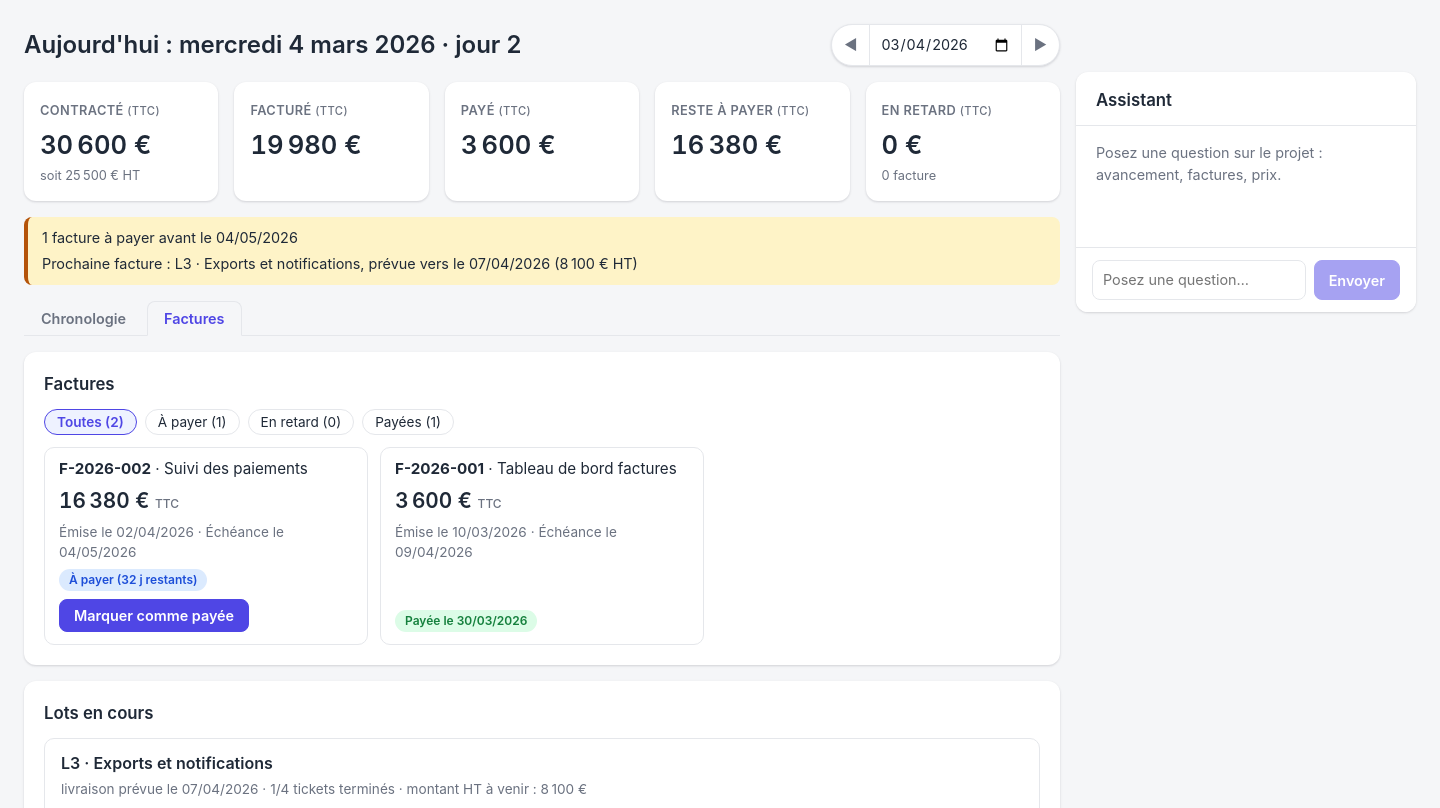
it: ClientPage › marking an invoice paid › shows the generic French message when the payment fails otherwise
This screenshot has width=1440, height=808.
Click the button "Marquer comme payée": (154, 615) [59,599,249,632]
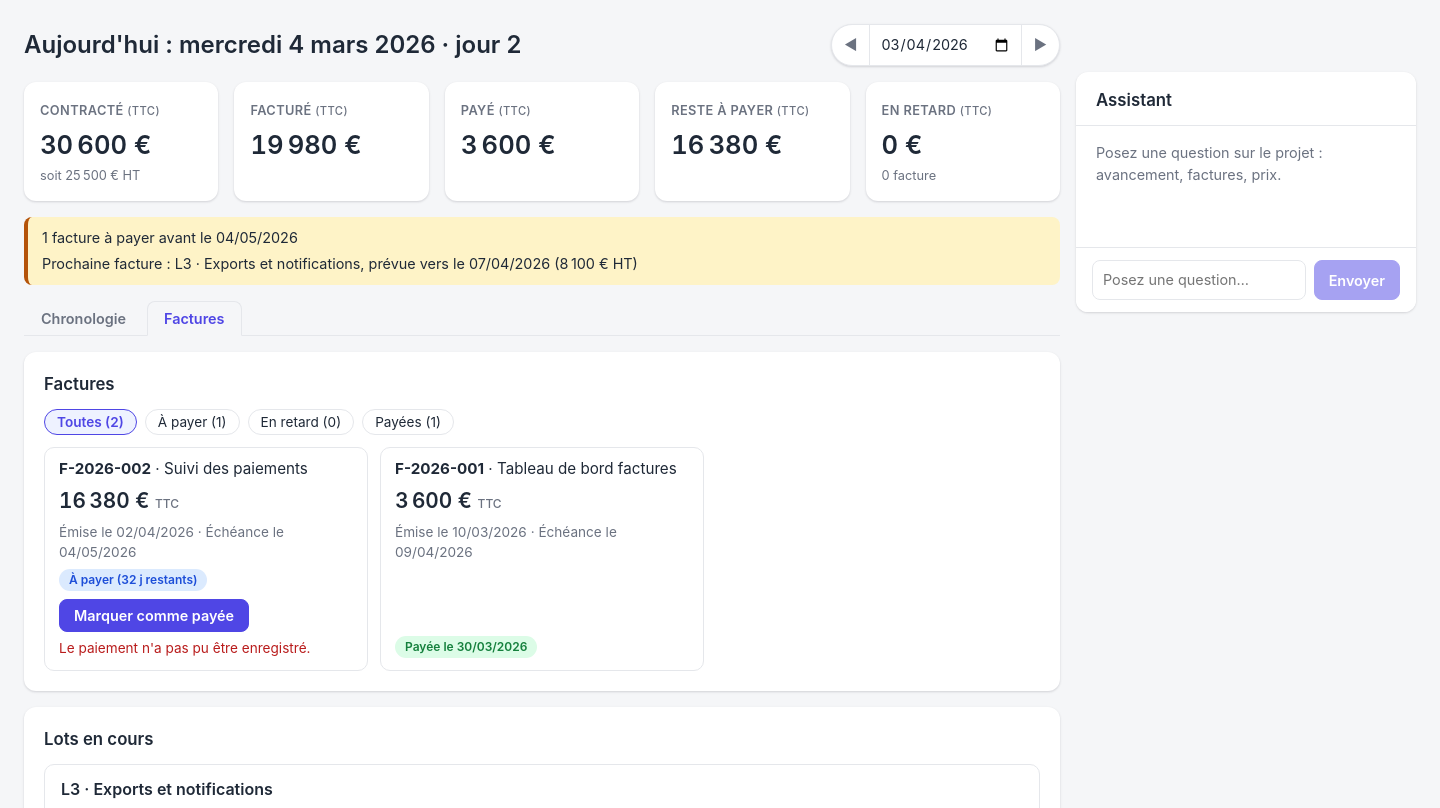
Now the message reads "Le paiement n'a pas pu être enregistré.", box [59,640,310,656]
